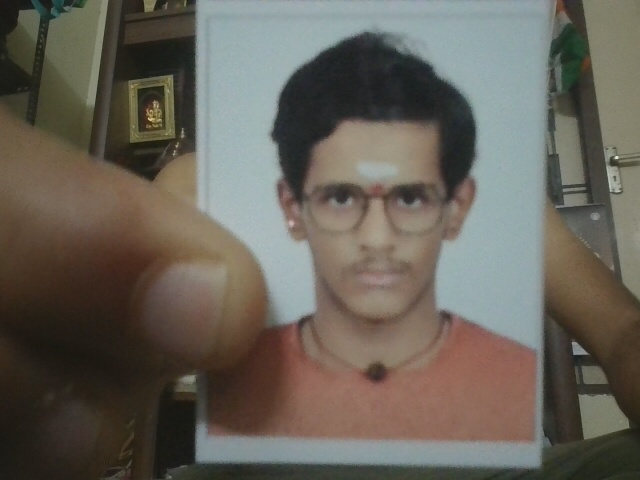fake: (267, 117, 486, 336)
